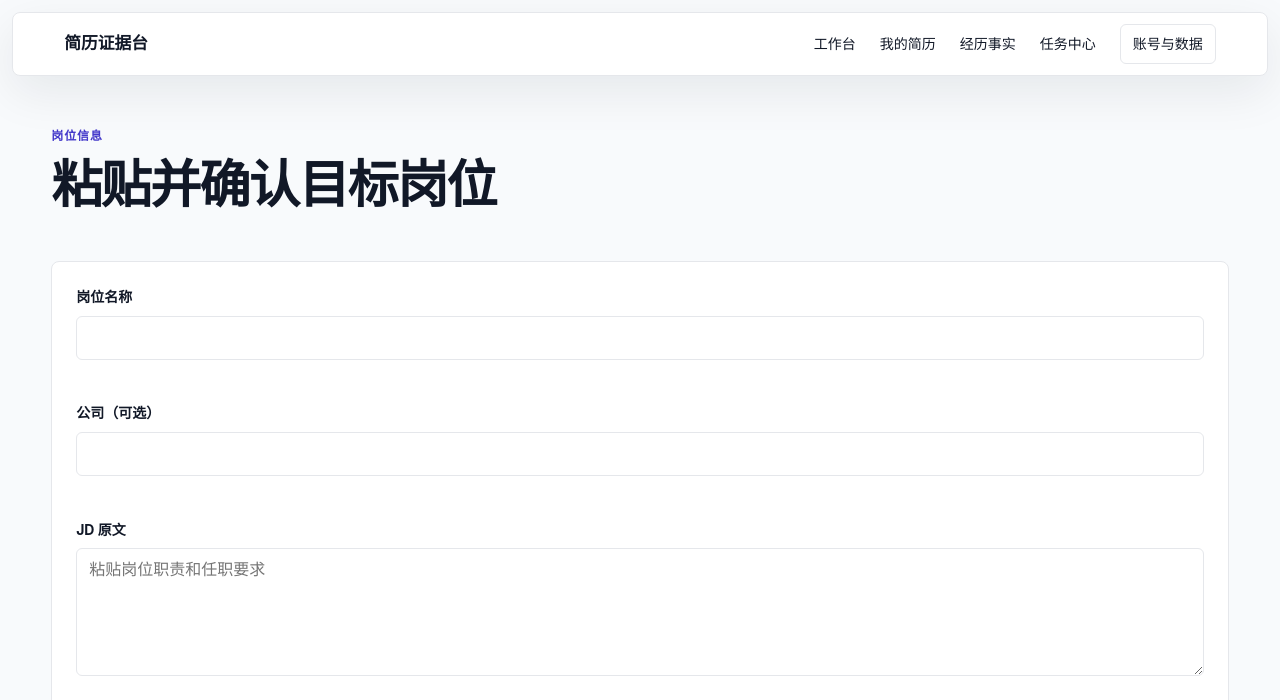
Test: V2 real workflow pages › rotates the job parse key only after a confirmed terminal failure
The width and height of the screenshot is (1280, 700).
Type "重试岗位" into the field labelled "岗位名称" at (640, 338), box [76,316,1204,360]
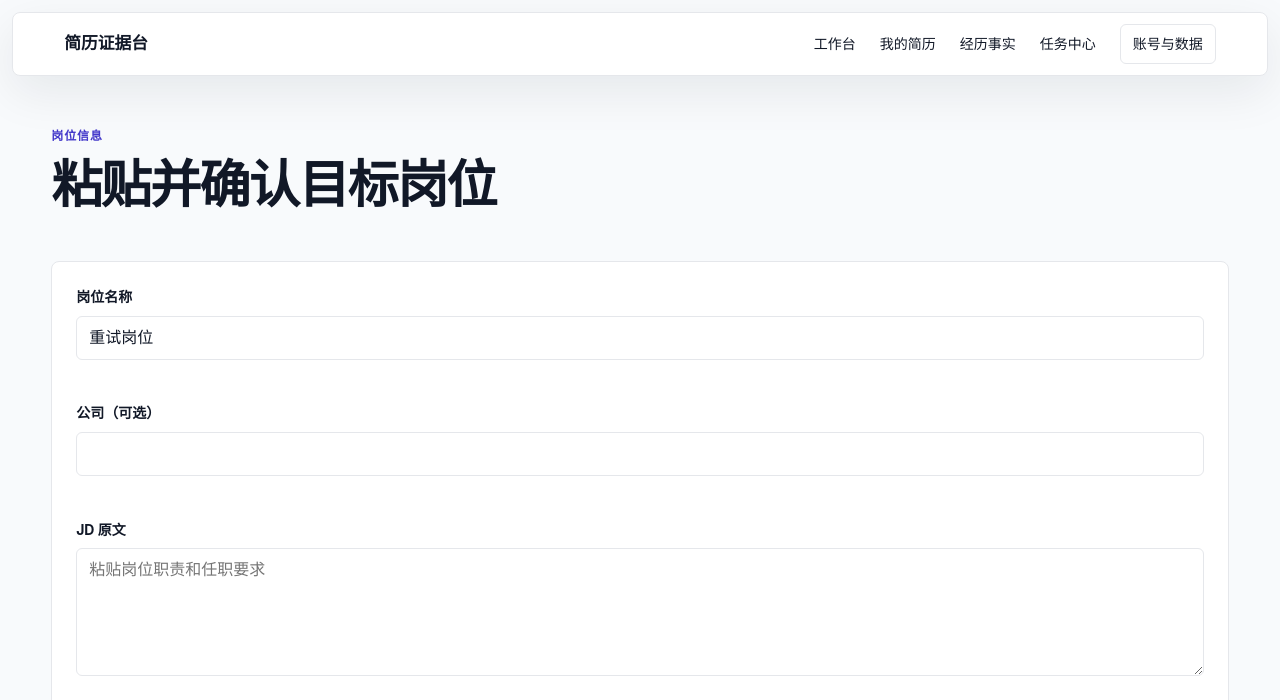
Type "岗位正文" into the text box labelled "JD 原文" at (640, 612), box [76,548,1204,676]
(page scrolled)
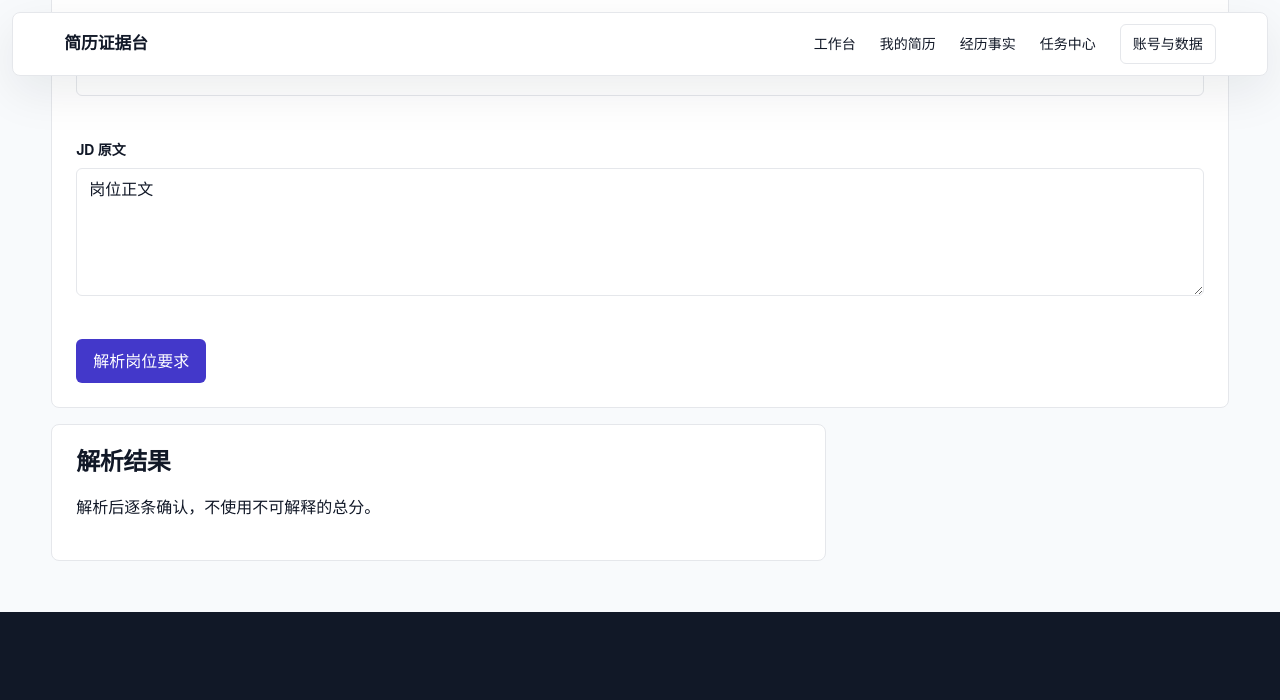
Click the button "解析岗位要求" at (141, 361), box [76,339,206,383]
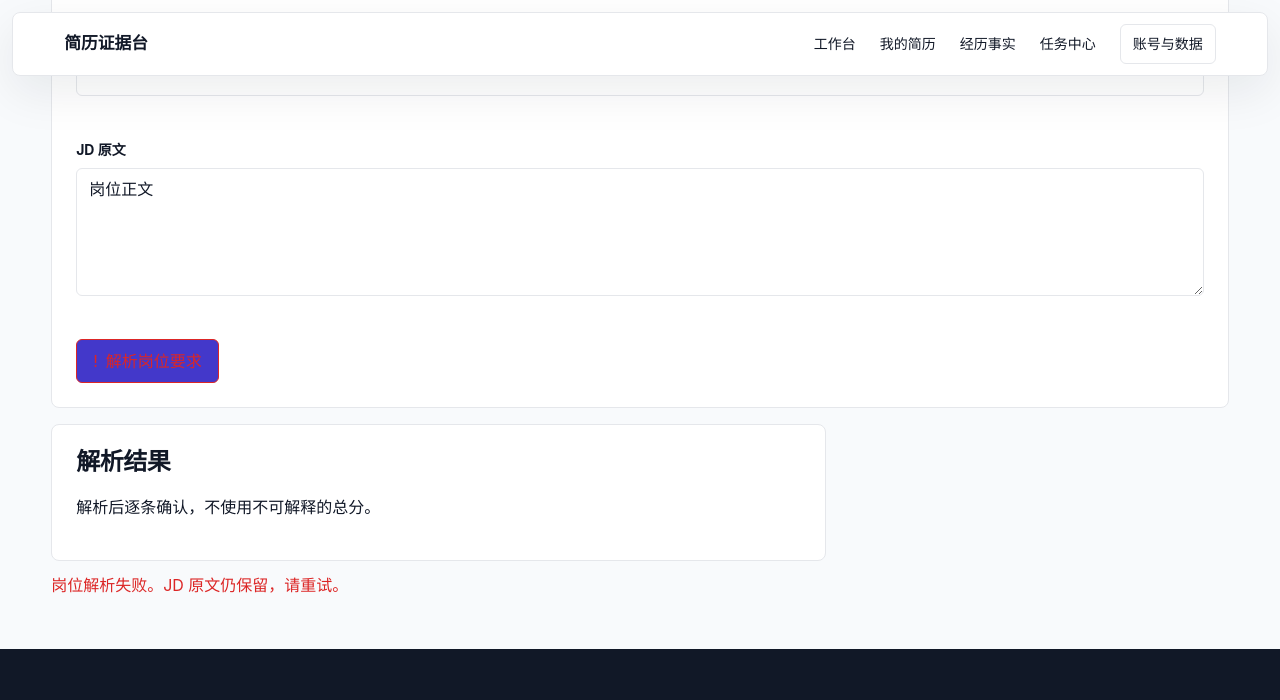
Expected: the message "岗位解析失败。JD 原文仍保留，请重试。" is shown, [51,574,348,594]
Click the button "! 解析岗位要求" at (148, 361), box [76,339,219,383]
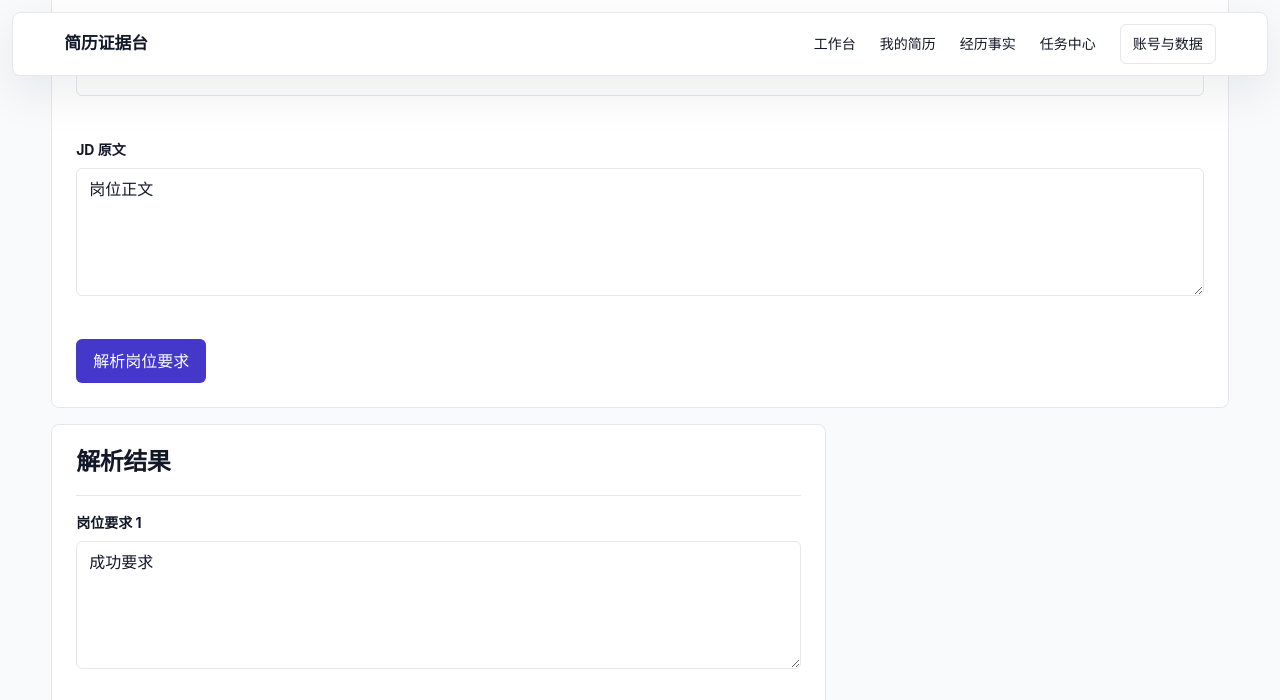
Expected: the text box showing "成功要求" is shown, [76,541,801,669]
